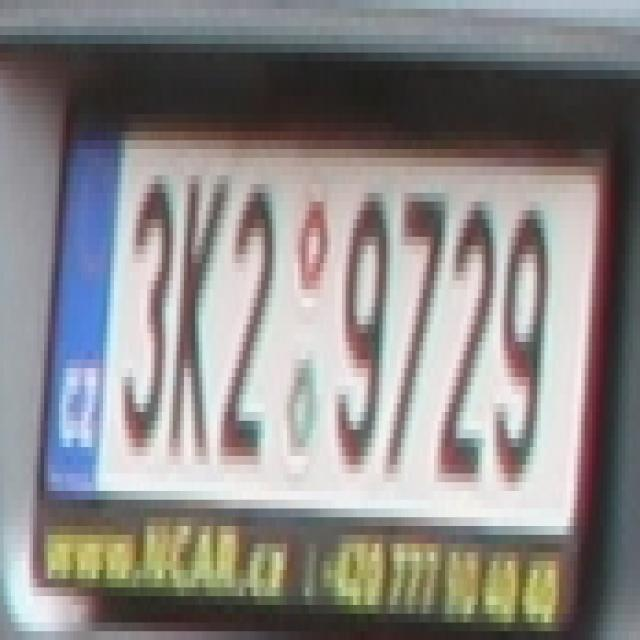2: (217, 175, 269, 456), (438, 202, 486, 492)
3: (118, 166, 166, 438)
7: (386, 175, 438, 482)
9: (334, 193, 386, 465), (493, 202, 541, 482)
K: (169, 175, 221, 456)
